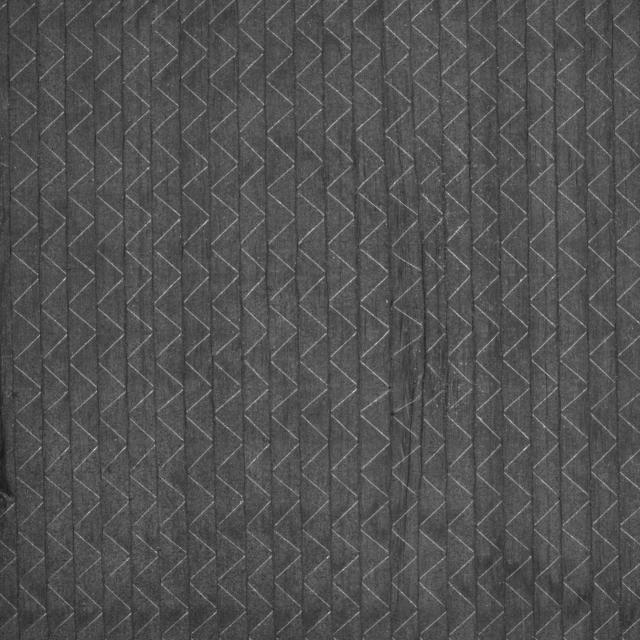carbon-fibre-defect: (387, 316, 505, 428)
